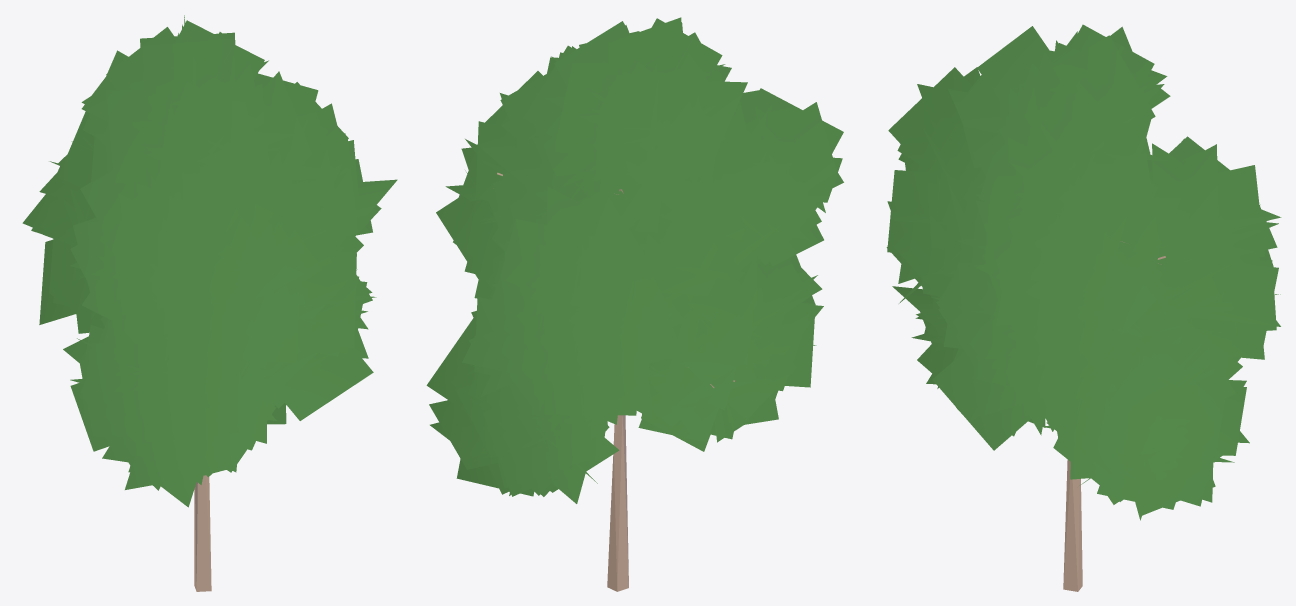
File: common-tree.glb
3 views of the same model, side by side, from view 1: azimuth 30°, elevation 25°; view 2: azimuth 150°, elevation 25°; view 3: azimuth 270°, elevation 25° (orthographic). The views are drawn at different scales.
Visible parts, largest first — view 1: Node; view 2: Node; view 3: Node.
Boxes of the visible parts, x1,y1,x2,y2 form: Node: [22, 15, 397, 591]; Node: [426, 17, 843, 591]; Node: [886, 24, 1281, 591].
Bounding box in the file's own units: 9.55 × 14.92 × 9.8.
